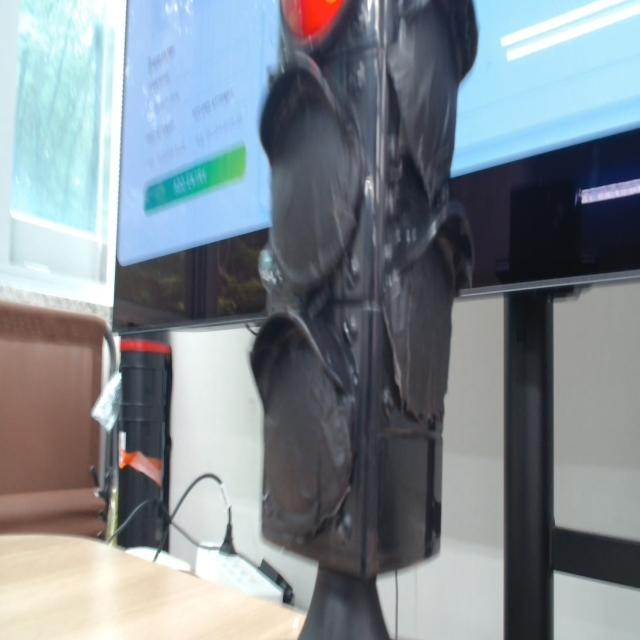red_light: (282, 0, 346, 39)
